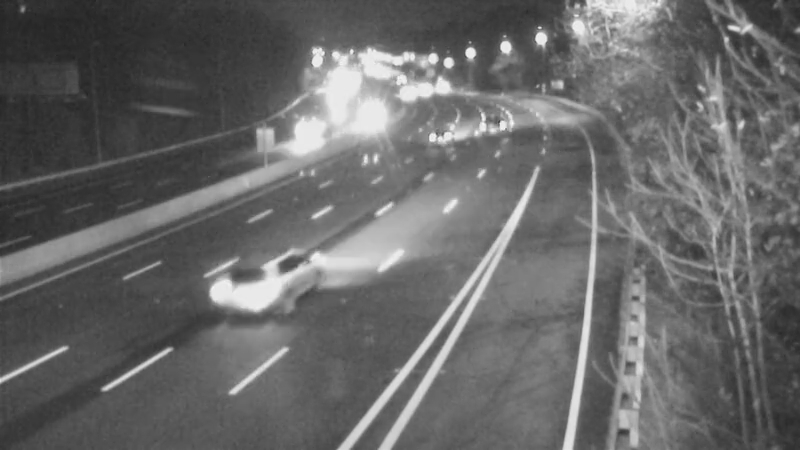vehicle: (222, 237, 302, 317), (383, 69, 433, 119), (466, 97, 516, 147), (420, 103, 470, 153), (284, 111, 334, 161), (343, 88, 393, 138)
